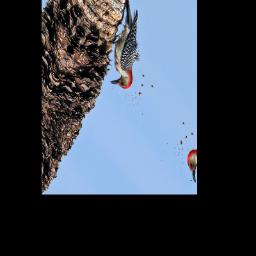Woodpecker: (90, 0, 161, 100)
